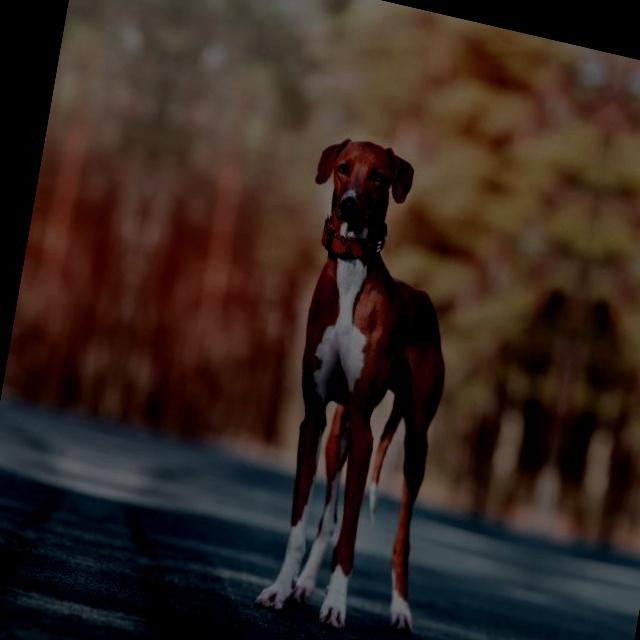dog: (205, 95, 522, 640), (596, 185, 640, 640)
